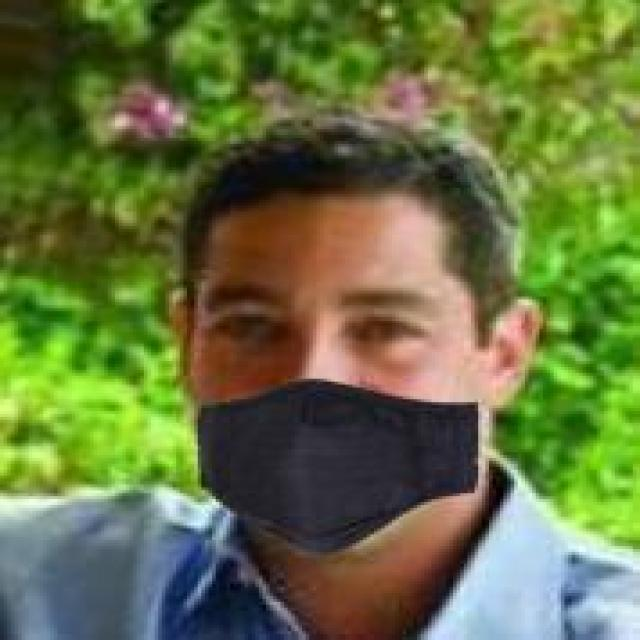mask: (137, 56, 579, 566)
